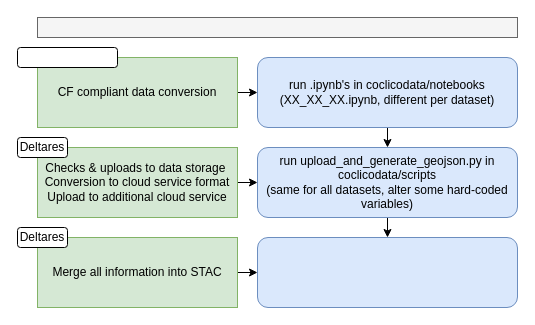
This 535x325 diagram has some shape labels left out. Here are the shapes that lost their labels. From the top down, the centre of each, then its label:
point (277, 27): Pipeline for adding datasets to the CoCliCo STAC
point (67, 57): AUTH / Partners
point (387, 272): run .py's in coclicodata/scripts (XX_XX_stacs.py, different per dataset)
